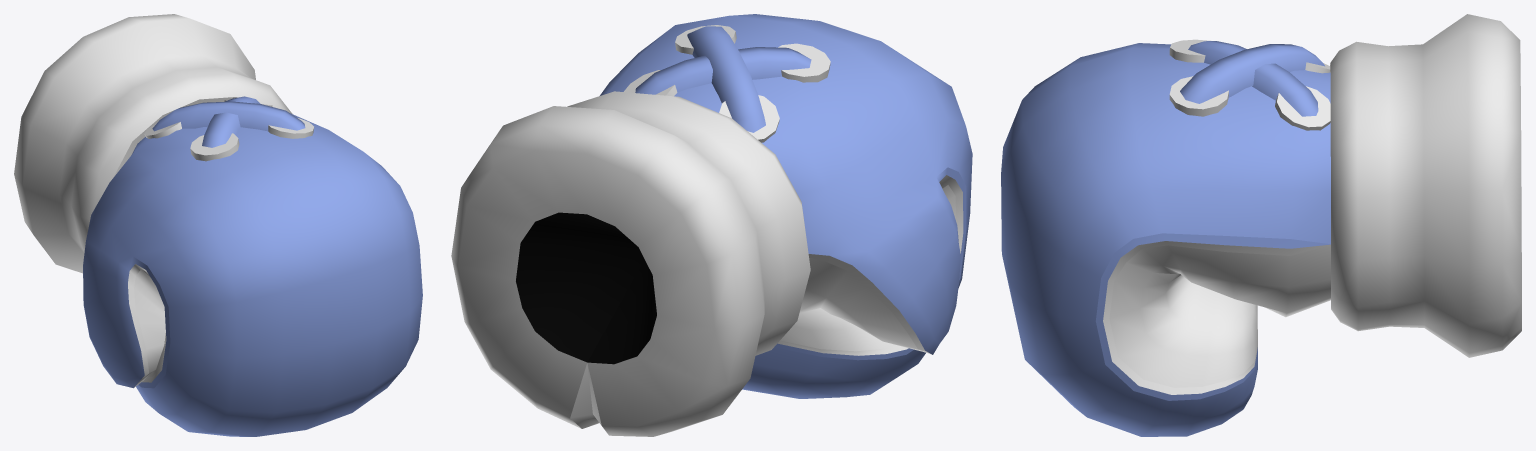
Rendered from boxingGlove.fbx.
3 renders of one model, left to right at view 1: azimuth 30°, elevation 25°; view 2: azimuth 150°, elevation 25°; view 3: azimuth 270°, elevation 25°, orthographic. The views are drawn at different scales.
Visible parts, largest first — view 1: boxingGlove; view 2: boxingGlove; view 3: boxingGlove.
Part boxes in pixels (box(x1,y1,x2,y2)): boxingGlove: box(14, 14, 422, 436); boxingGlove: box(451, 14, 972, 436); boxingGlove: box(1001, 14, 1521, 436).
Size of the model in its own units: 31.54 by 33.24 by 42.05.
